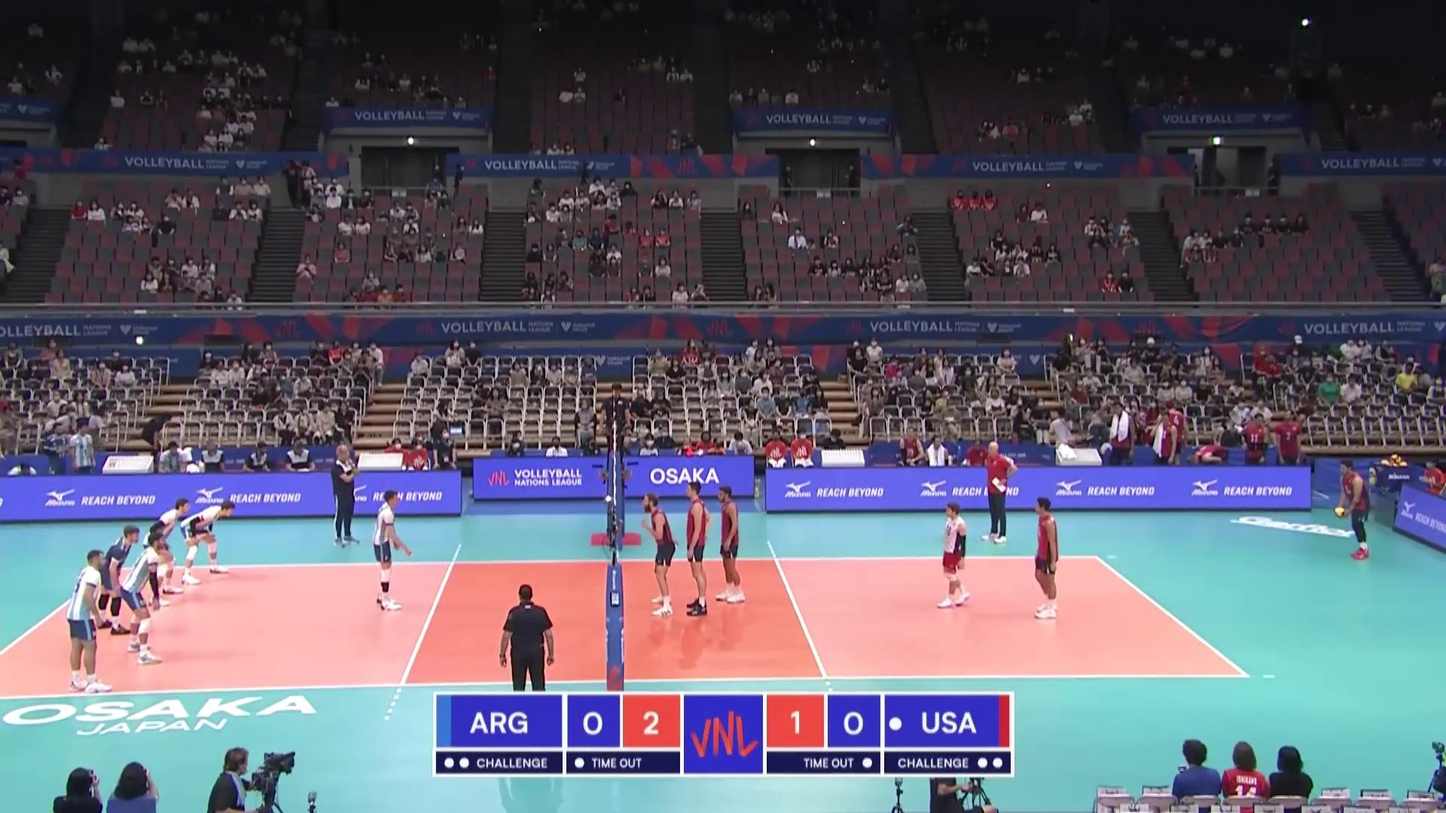player: (65, 550, 108, 694), (120, 535, 166, 665), (94, 526, 142, 636), (370, 491, 412, 610), (145, 500, 189, 607), (640, 493, 677, 618), (180, 502, 235, 586), (680, 483, 714, 614), (1335, 459, 1373, 561), (1032, 496, 1063, 617), (716, 484, 747, 605), (938, 502, 970, 608)
refree: (497, 583, 554, 692), (601, 384, 630, 481)
